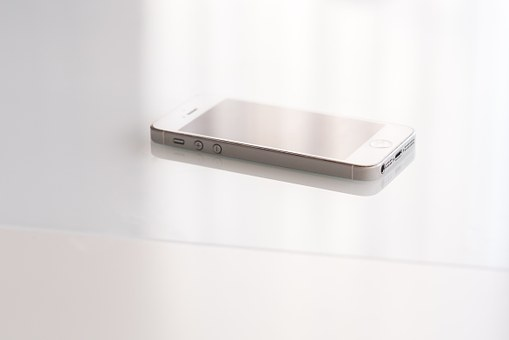mobile: (153, 80, 432, 189)
